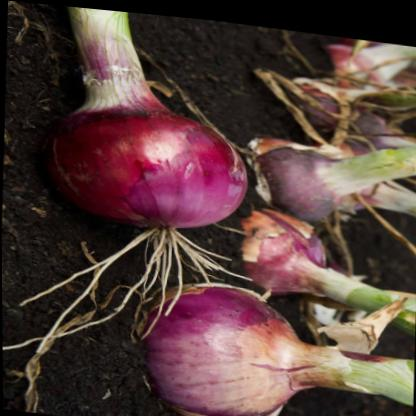--: (48, 83, 255, 238), (131, 272, 321, 416), (252, 128, 355, 234)
